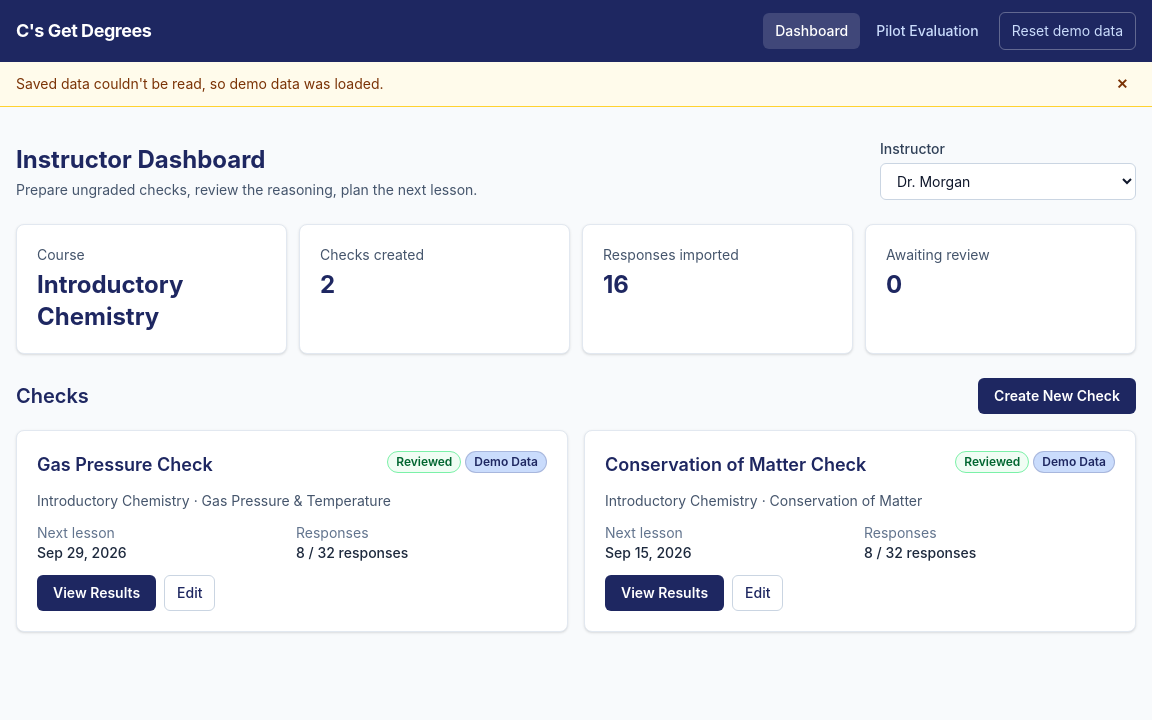
Test: shows the corrupt-data notice in the header and lets it be dismissed
Check: the message shows "Saved data couldn't be read", box [16,75,384,92]
Click the button named "Dismiss notice".
click(1122, 84)  # box [1108,70,1136,98]
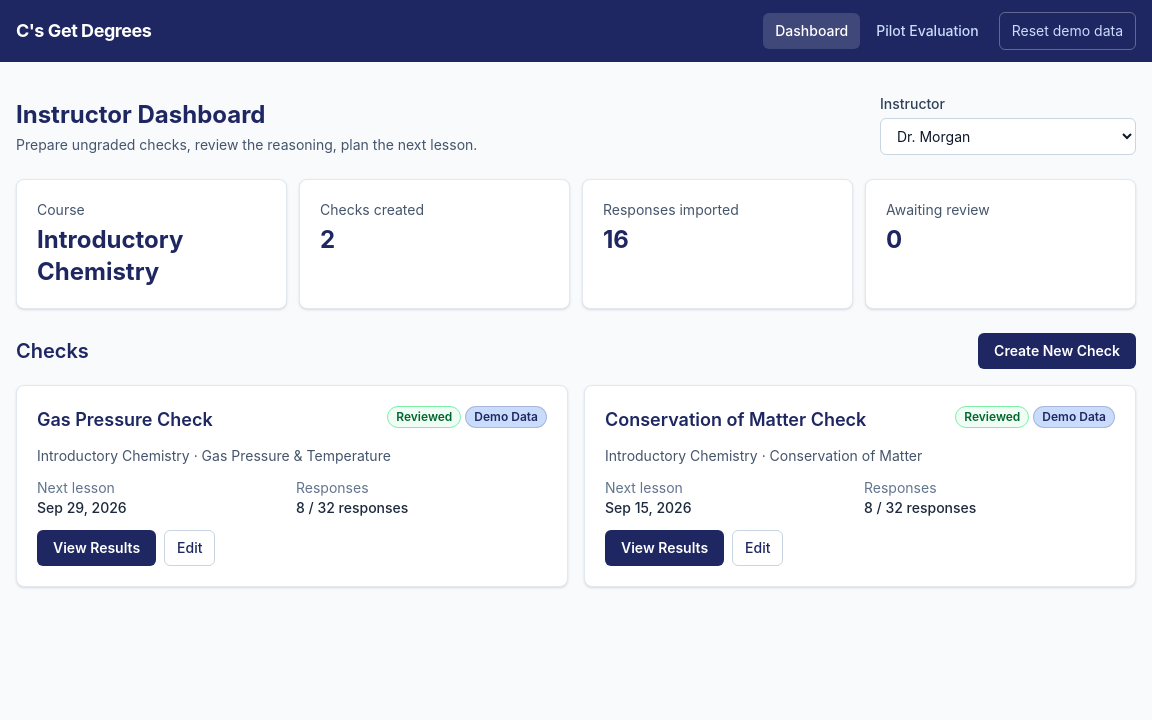
Check: the text "Saved data couldn't be read" is gone
